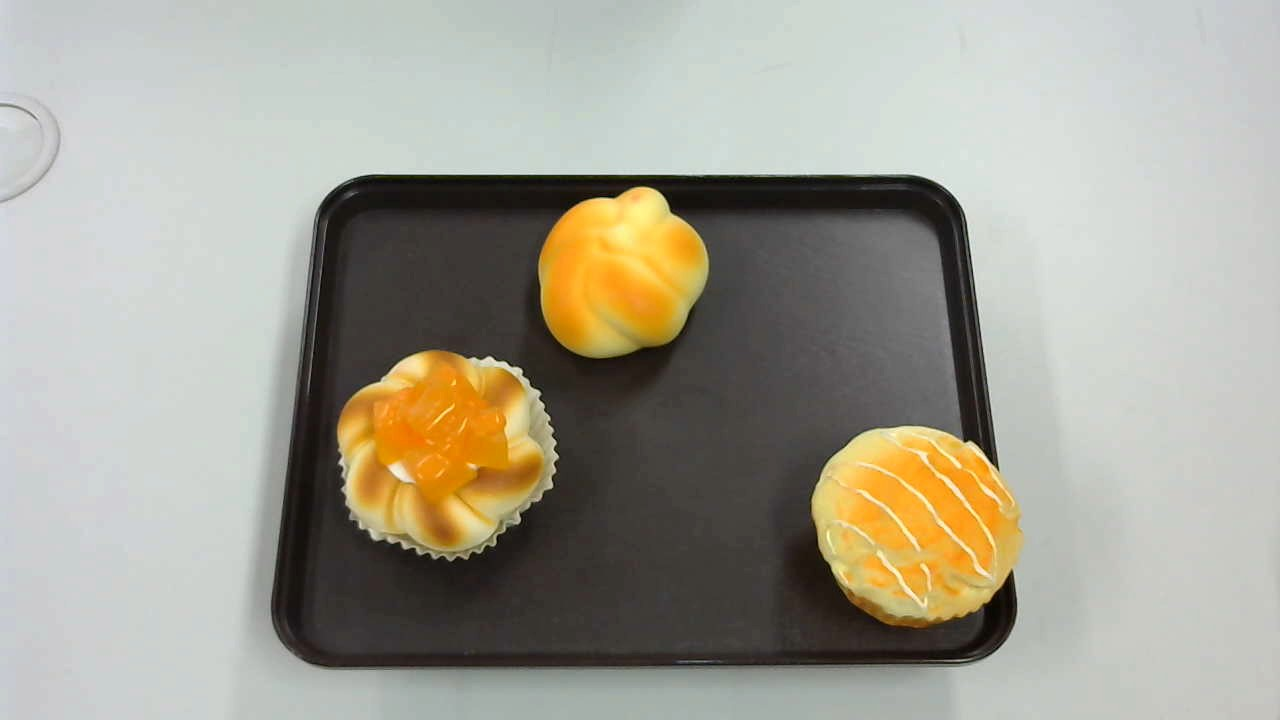croissant: (538, 187, 710, 359)
cupcake: (810, 427, 1028, 632)
mango tart: (335, 351, 558, 561)
